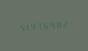eight: (59, 18, 65, 29)
five: (17, 21, 23, 32)
four: (31, 20, 37, 31), (52, 19, 58, 29)
one: (24, 21, 30, 31)
seven: (38, 20, 44, 30)
six: (45, 19, 51, 30)
two: (66, 18, 72, 28)
